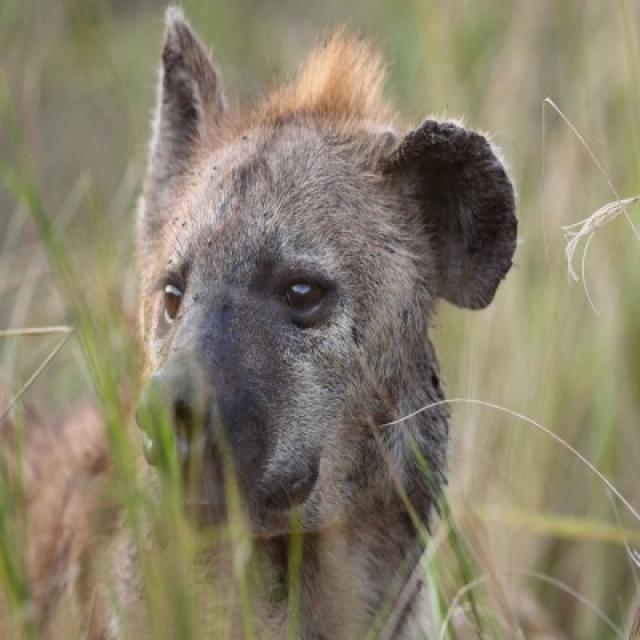hyena: (133, 5, 515, 638)
